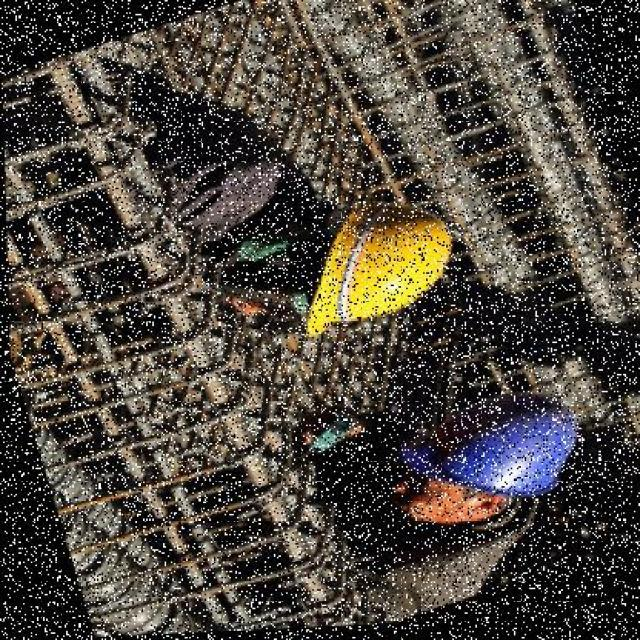helmet: (262, 173, 474, 351), (374, 383, 598, 551)
